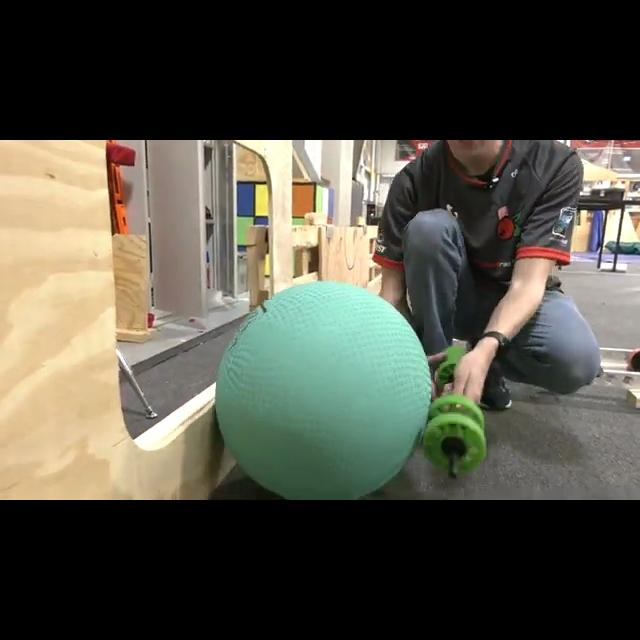ALGAE: (213, 278, 433, 498)
